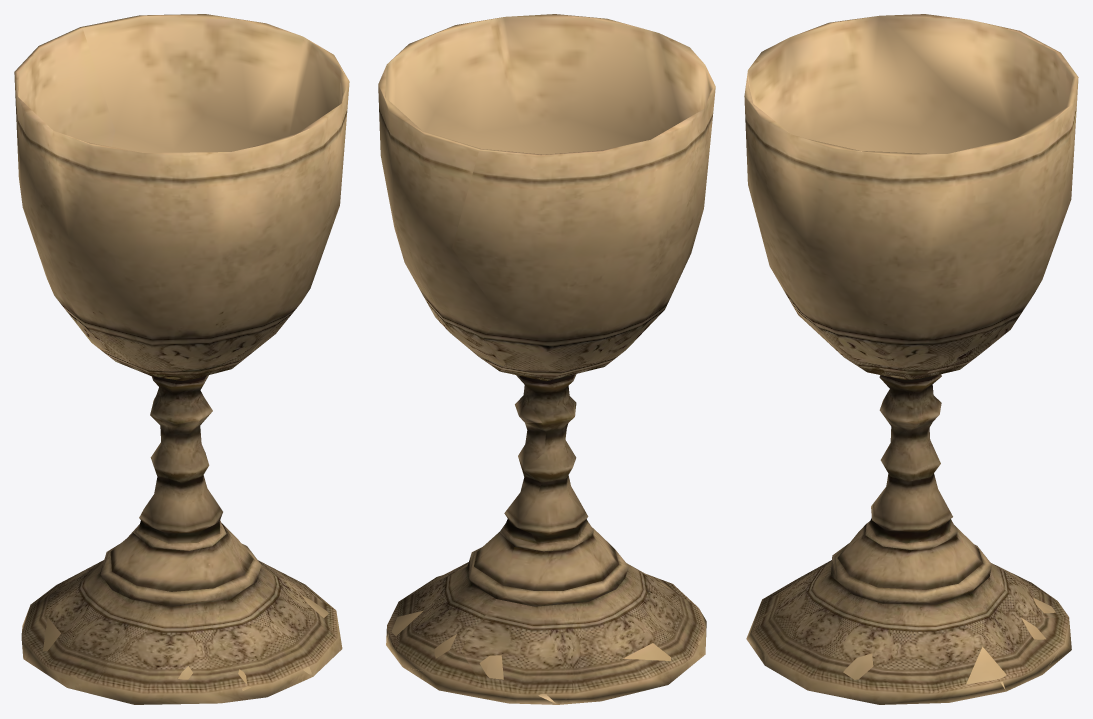
The model's file is feast_goblet.glb.
The picture shows the model from 3 angles, left to right: view 1: azimuth 30°, elevation 25°; view 2: azimuth 150°, elevation 25°; view 3: azimuth 270°, elevation 25°; orthographic projection.
Visible parts, largest first — view 1: feast_goblet; view 2: feast_goblet; view 3: feast_goblet.
Boxes of the visible parts, x1,y1,x2,y2 form: feast_goblet: (14,14,349,704); feast_goblet: (378,14,715,704); feast_goblet: (744,14,1078,704).
Bounding box in the file's own units: 0.0661 × 0.1197 × 0.0657.
1 material, 1 textured.
